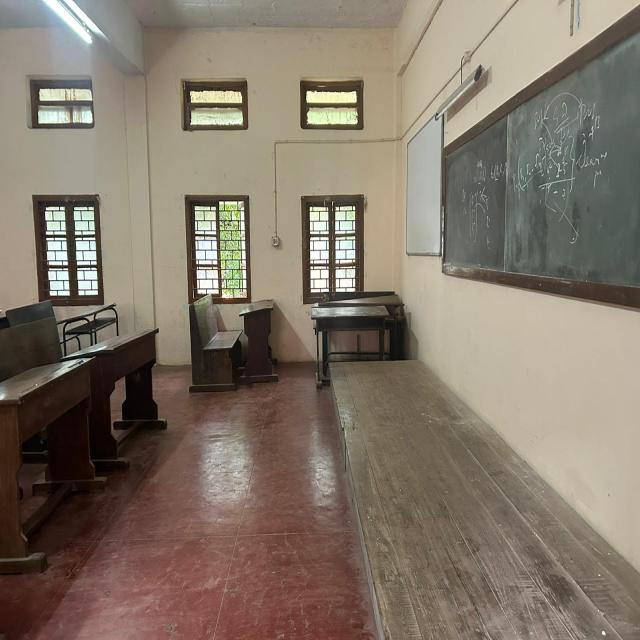Table ahead at: (4, 349, 95, 582), (311, 299, 404, 350), (247, 298, 280, 392)
bench ahead at: (180, 292, 243, 388)
